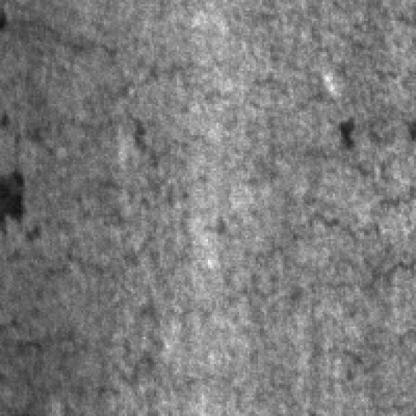crazing: (235, 181, 416, 297), (21, 229, 156, 381)
